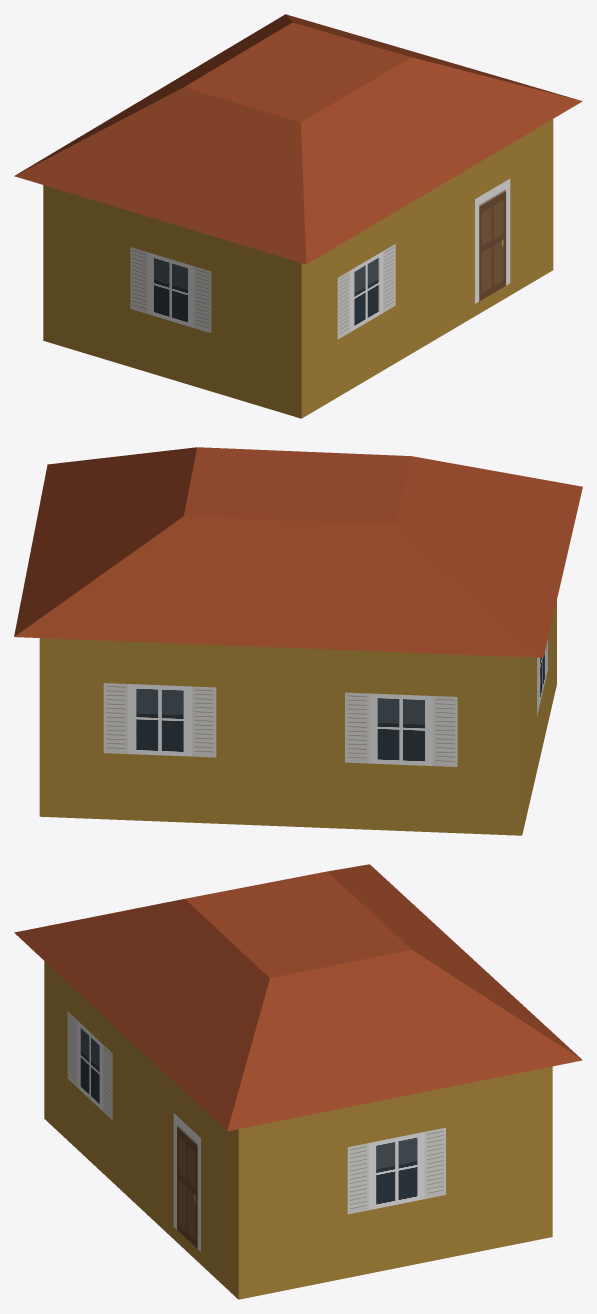
The model's file is msb_oranjestad_m17_3.glb.
3 renders of one model, top to bottom at view 1: azimuth 30°, elevation 25°; view 2: azimuth 150°, elevation 25°; view 3: azimuth 270°, elevation 25°, orthographic. The views are drawn at different scales.
Visible parts, largest first — view 1: msb_oranjestad_m17_3_lod0; view 2: msb_oranjestad_m17_3_lod0; view 3: msb_oranjestad_m17_3_lod0.
Boxes of the visible parts, <box> form: msb_oranjestad_m17_3_lod0: <box>14,14,582,418</box>; msb_oranjestad_m17_3_lod0: <box>14,447,582,835</box>; msb_oranjestad_m17_3_lod0: <box>14,864,582,1299</box>.
Size of what is drawn, in the model's own units: 11.06 by 4.9 by 9.96.
Materials: 2 (1 with a texture image).
